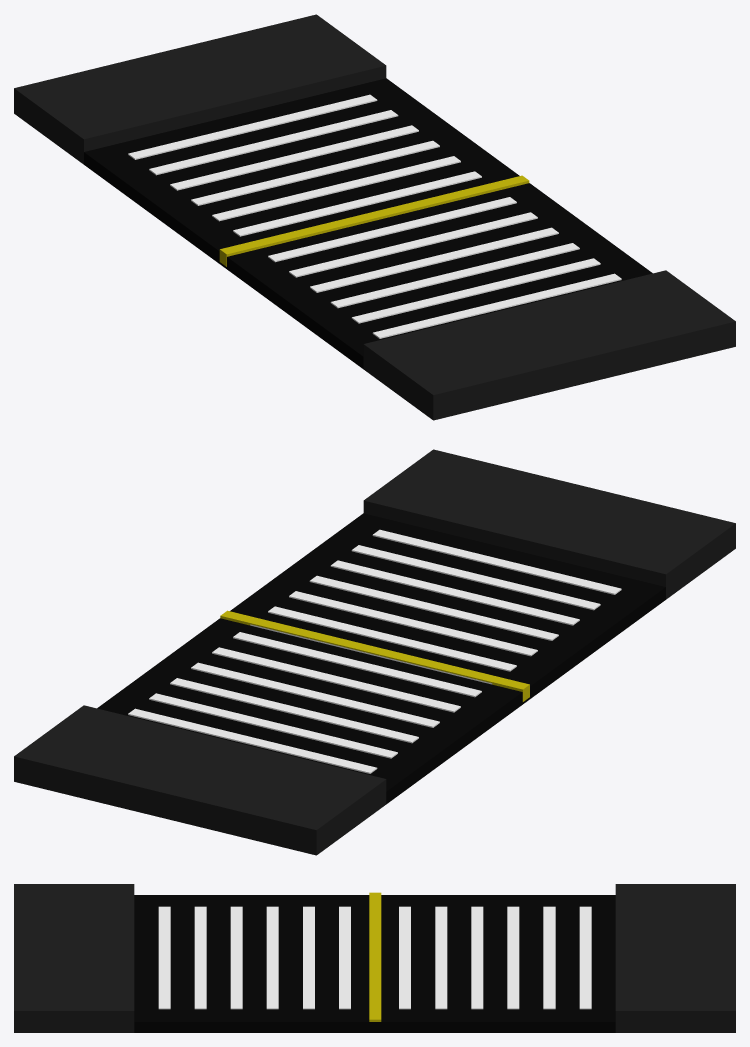
Rendered from Duble Yol 2 Yaya Gecidi.obj.
3 views of the same model, one above another, from view 1: azimuth 30°, elevation 25°; view 2: azimuth 150°, elevation 25°; view 3: azimuth 270°, elevation 25° (orthographic). The views are drawn at different scales.
Parts seen in each view (by area): view 1: Duble_Yol_2_Yaya_Gecidi; view 2: Duble_Yol_2_Yaya_Gecidi; view 3: Duble_Yol_2_Yaya_Gecidi.
Part boxes in pixels (x1,y1,x2,y2): Duble_Yol_2_Yaya_Gecidi: (14, 14, 735, 420); Duble_Yol_2_Yaya_Gecidi: (14, 449, 735, 855); Duble_Yol_2_Yaya_Gecidi: (14, 884, 735, 1032).
Size of the model in its own units: 2.5 by 0.2 by 6.
